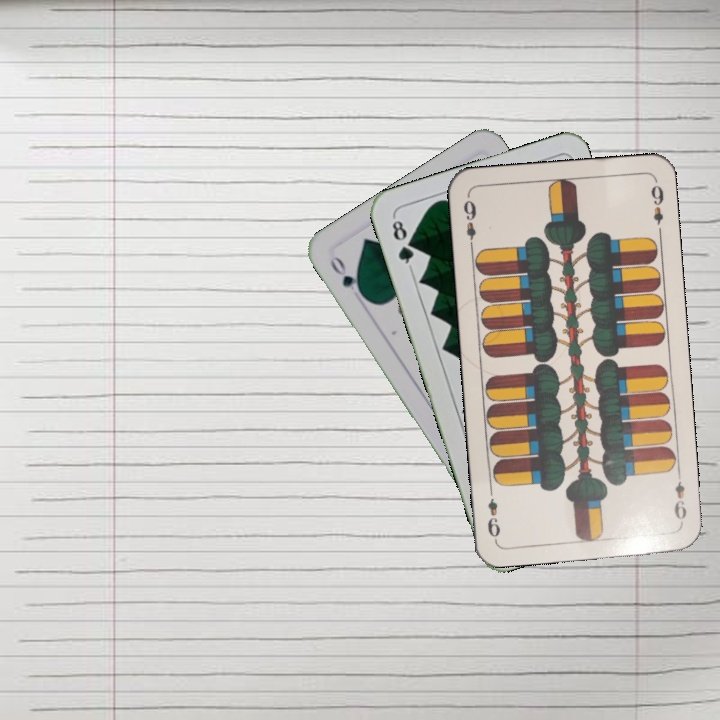E9: (670, 467, 690, 527), (459, 196, 479, 252)
G8: (388, 213, 417, 271)
GO: (325, 251, 368, 301)
